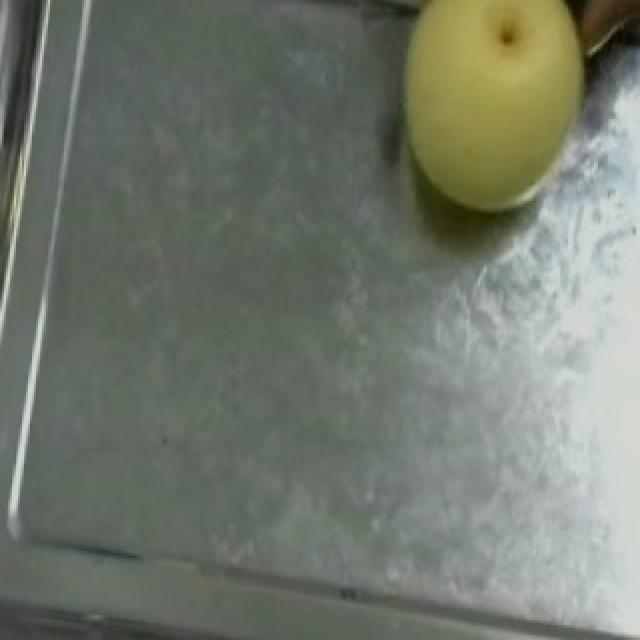Fruit: (354, 0, 626, 238)
